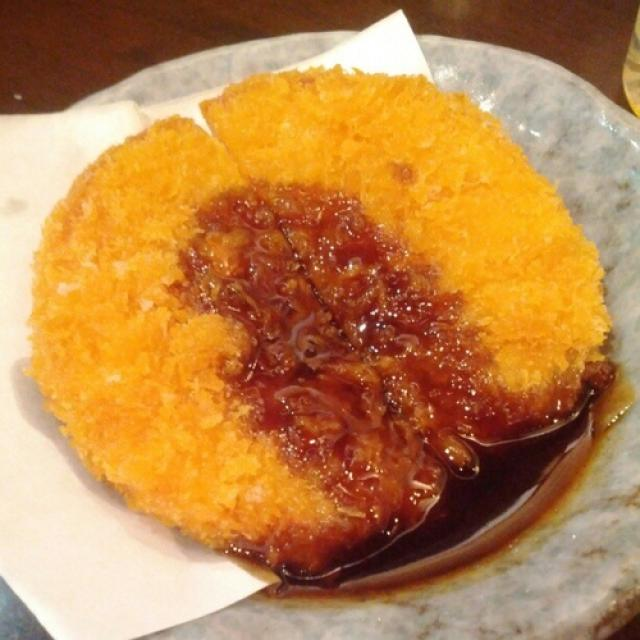炸货点心: (1, 25, 631, 620)
